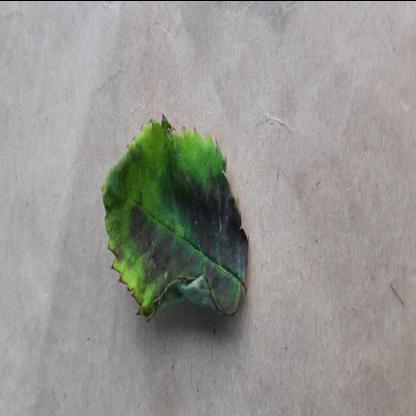downy-mildew: (99, 110, 251, 318)
